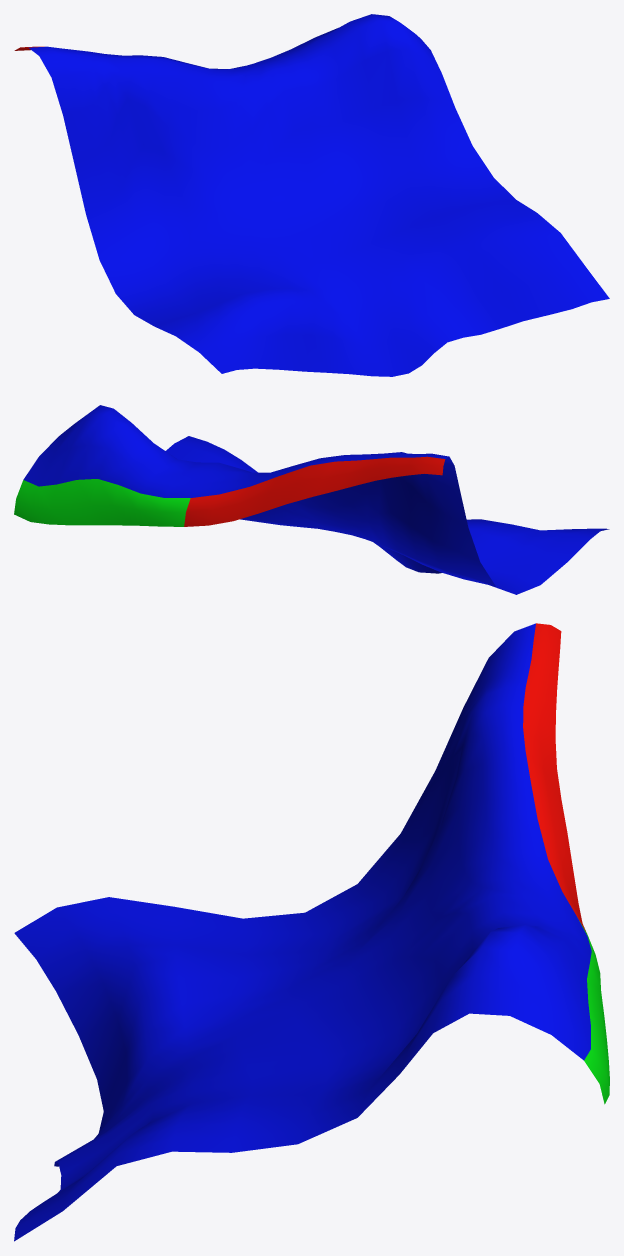
3 views of the same model, one above another, from view 1: azimuth 30°, elevation 25°; view 2: azimuth 150°, elevation 25°; view 3: azimuth 270°, elevation 25° (orthographic). The views are drawn at different scales.
Parts seen in each view (by area): view 1: T5; view 2: T5; view 3: T5.
Part boxes in pixels (left/top/right/bottom): T5: left=14, top=14, right=609, bottom=376; T5: left=14, top=405, right=609, bottom=594; T5: left=14, top=623, right=609, bottom=1241.
Size of the model in its own units: 5433 by 3333 by 4618.
